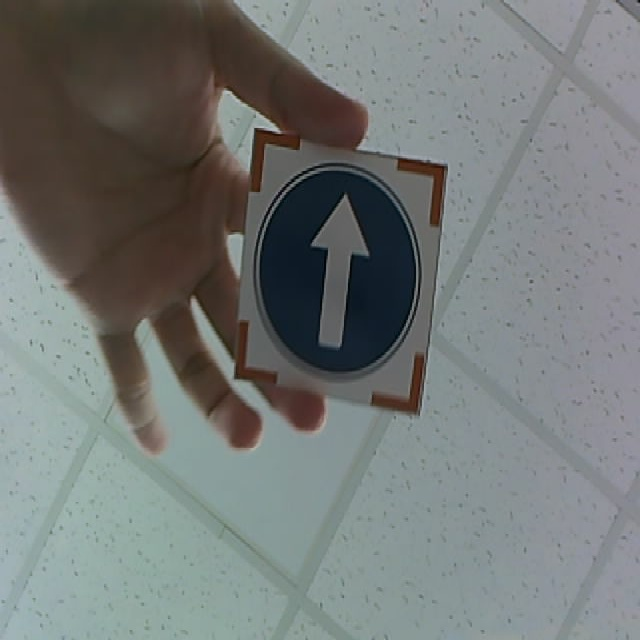straight: (232, 127, 449, 416)
